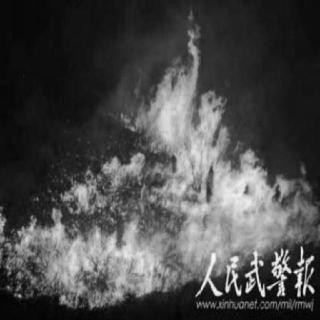Fire: (137, 13, 317, 273)
